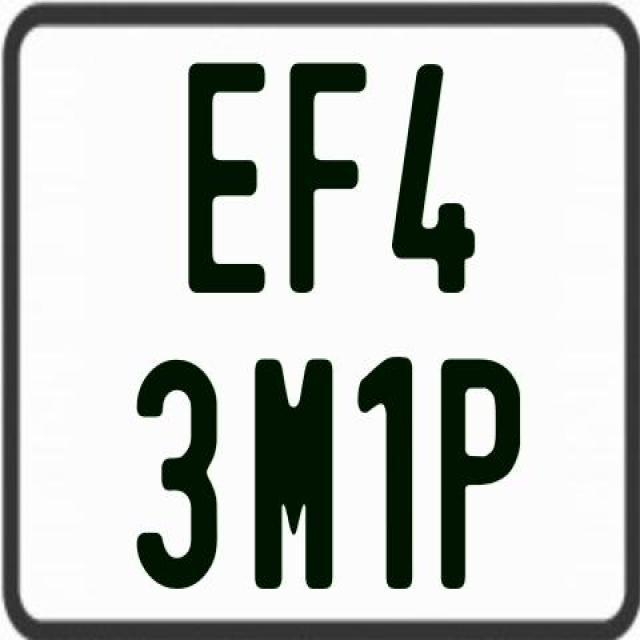1: (354, 355, 409, 592)
3: (136, 360, 219, 597)
4: (391, 59, 474, 296)
E: (184, 59, 267, 291)
F: (286, 59, 369, 299)
M: (253, 354, 331, 590)
P: (438, 356, 522, 590)
